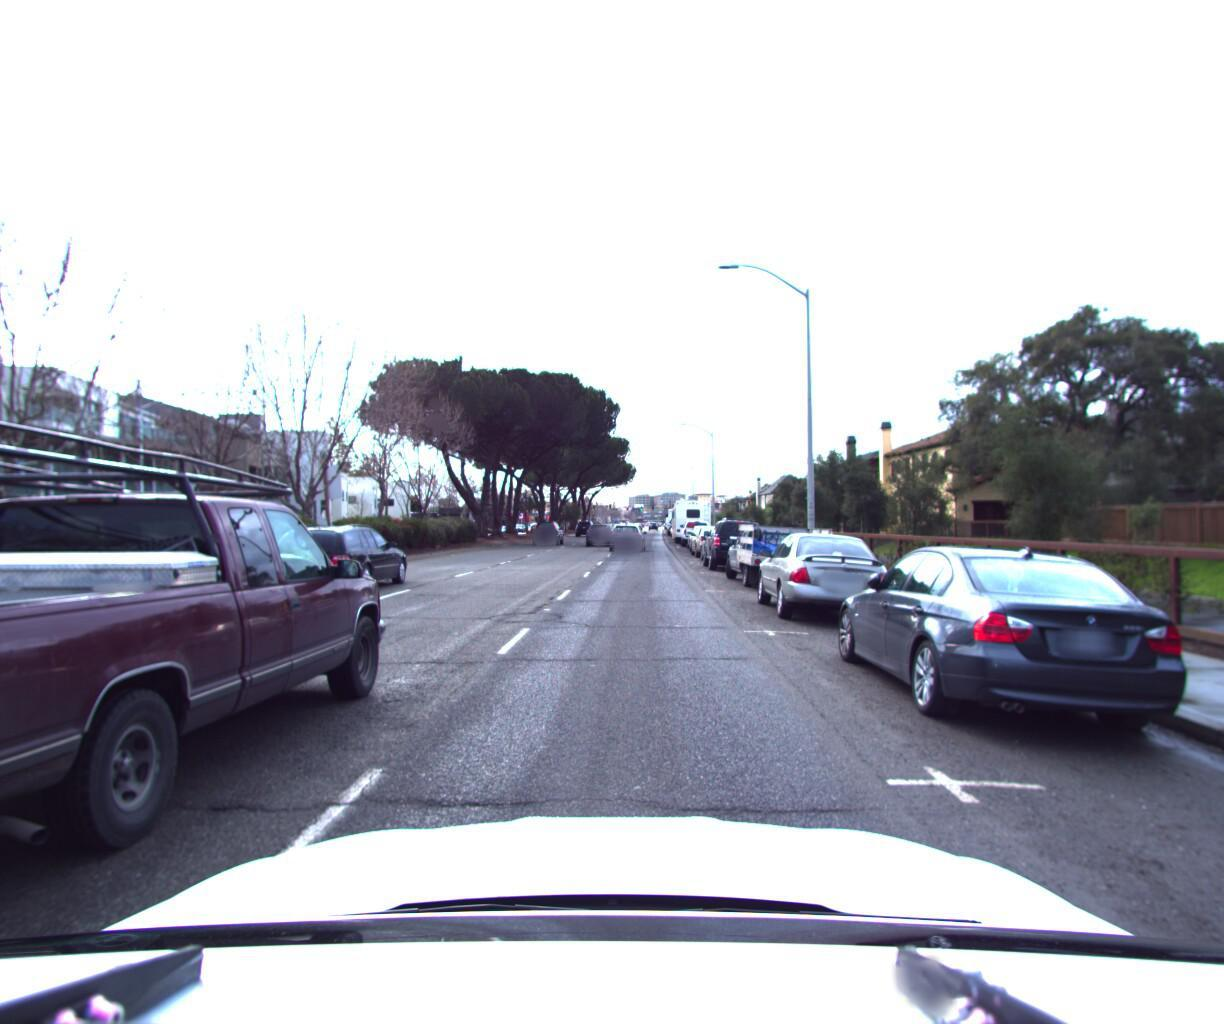car: (0, 404, 405, 982), (827, 536, 1223, 761), (751, 528, 899, 630), (265, 523, 417, 599), (722, 522, 837, 594), (701, 518, 771, 575), (690, 525, 740, 561), (607, 525, 647, 555), (530, 519, 565, 544), (683, 519, 714, 548), (584, 521, 617, 547)
truck: (671, 498, 714, 546)
